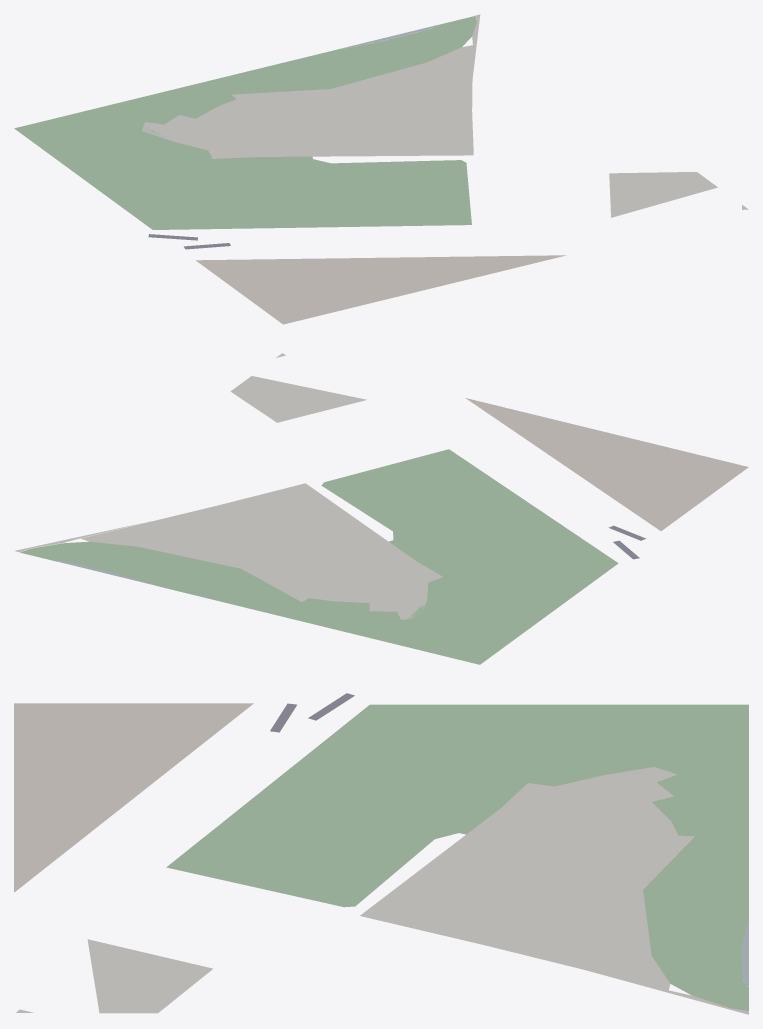
File: 99_90_mid.glb
3 views of the same model, one above another, from view 1: azimuth 30°, elevation 25°; view 2: azimuth 150°, elevation 25°; view 3: azimuth 270°, elevation 25° (orthographic). The views are drawn at different scales.
Bounding box in the file's own units: 514 × 2.22 × 500.
